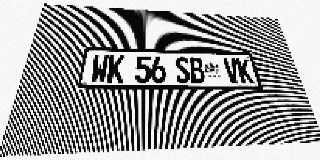5: (135, 56, 151, 83)
6: (151, 56, 166, 83)
B: (189, 57, 205, 83)
K: (107, 55, 124, 83), (236, 58, 254, 84)
S: (175, 57, 191, 83)
V: (223, 58, 241, 84)
W: (90, 55, 109, 83)
